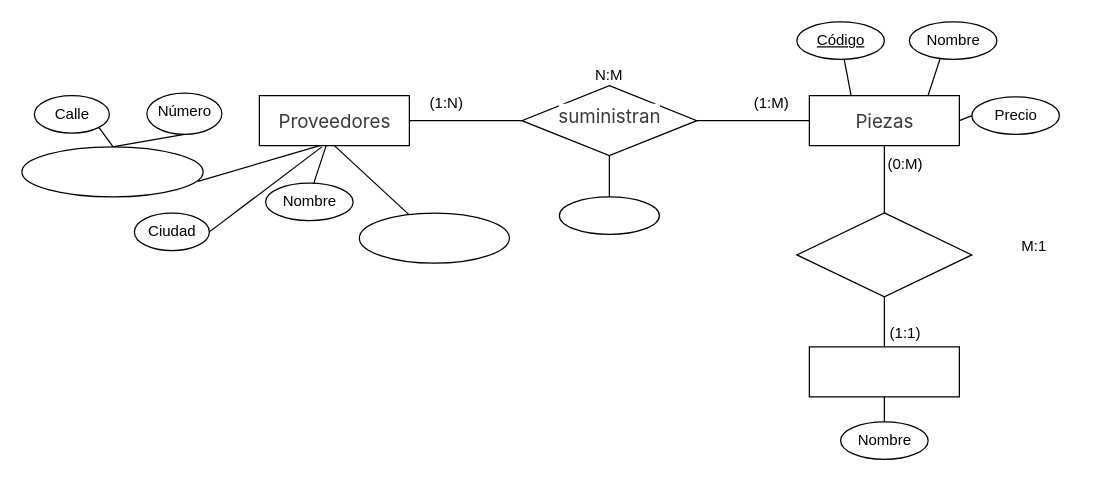
The diagram is 1094 pixels wide and 481 high, and some of its shapes have lost their labels. The centre of each missing label's shape, as x and y in pixels:
Cantidad: point (608, 215)
Categorías: point (883, 371)
Dirección: point (112, 171)
pertenecen a: point (884, 254)
Provincia: point (433, 237)
